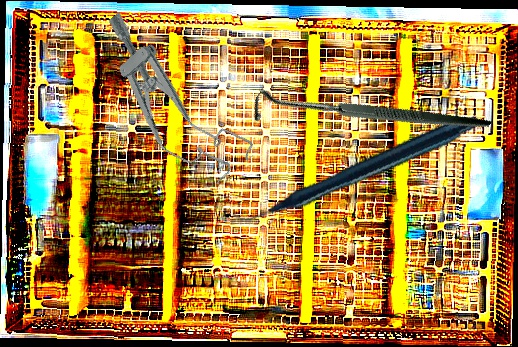Handpiece: (229, 66, 481, 270)
Hook Surgical: (244, 4, 493, 232)
Speculum: (74, 1, 261, 199)
